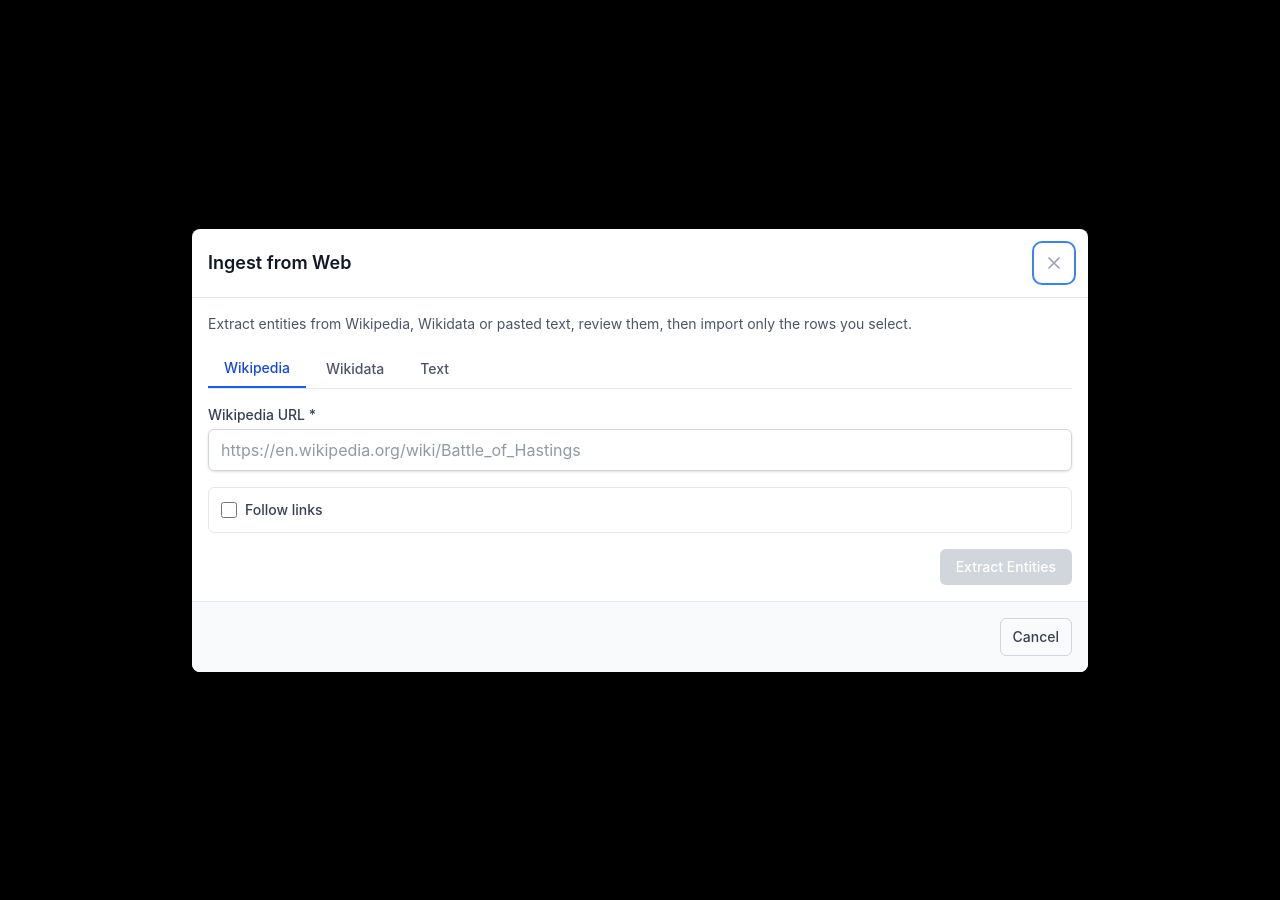
Test: IngestionWizard › review step has no axe violations
Click the tab "Text".
click(435, 368)  # box [404,350,465,388]
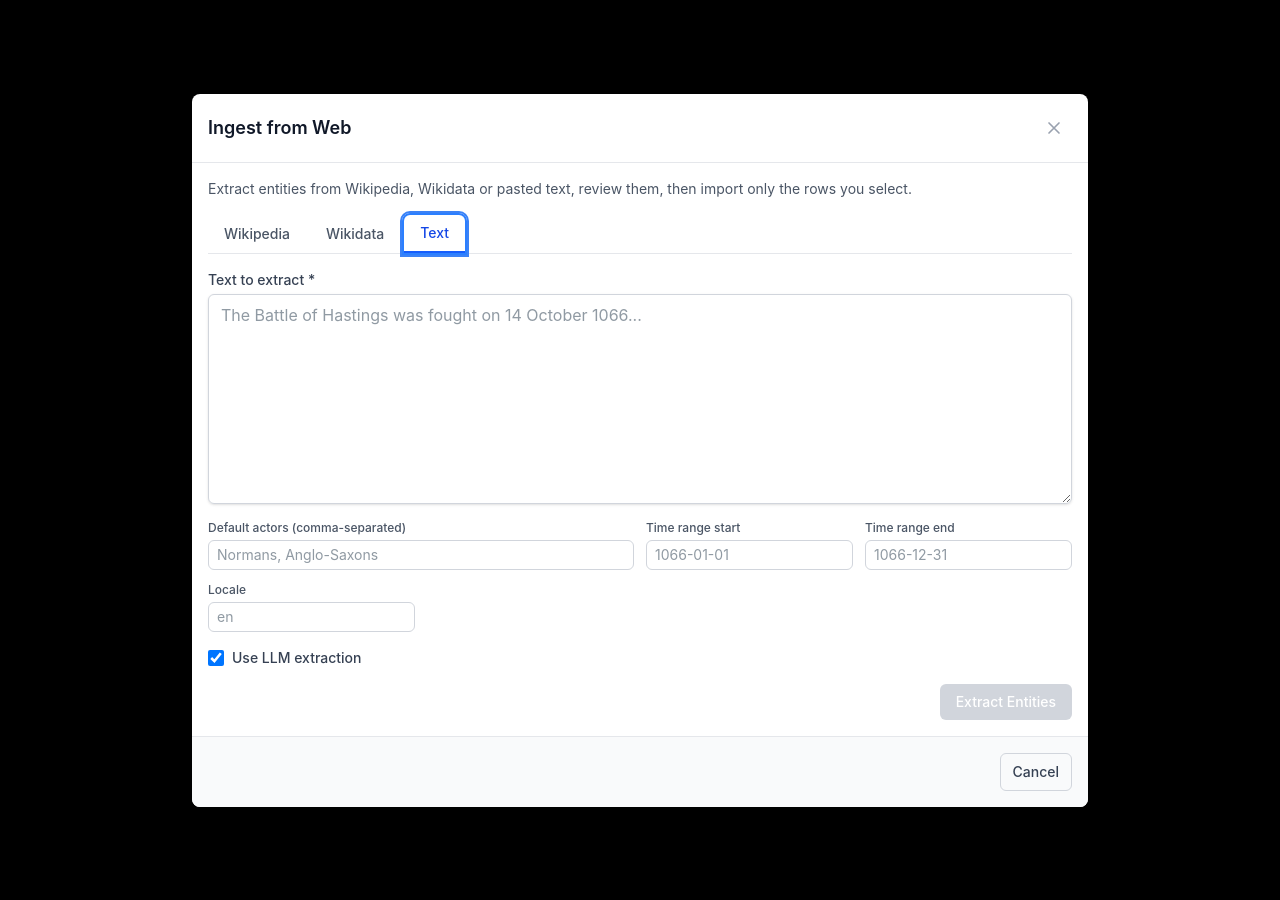
Type "The Battle of Hastings was fought in 1066." into the text box labelled "Text to extract *".
click(640, 398); type("The Battle of Hastings was fought in 1066.")  # box [208,294,1072,504]
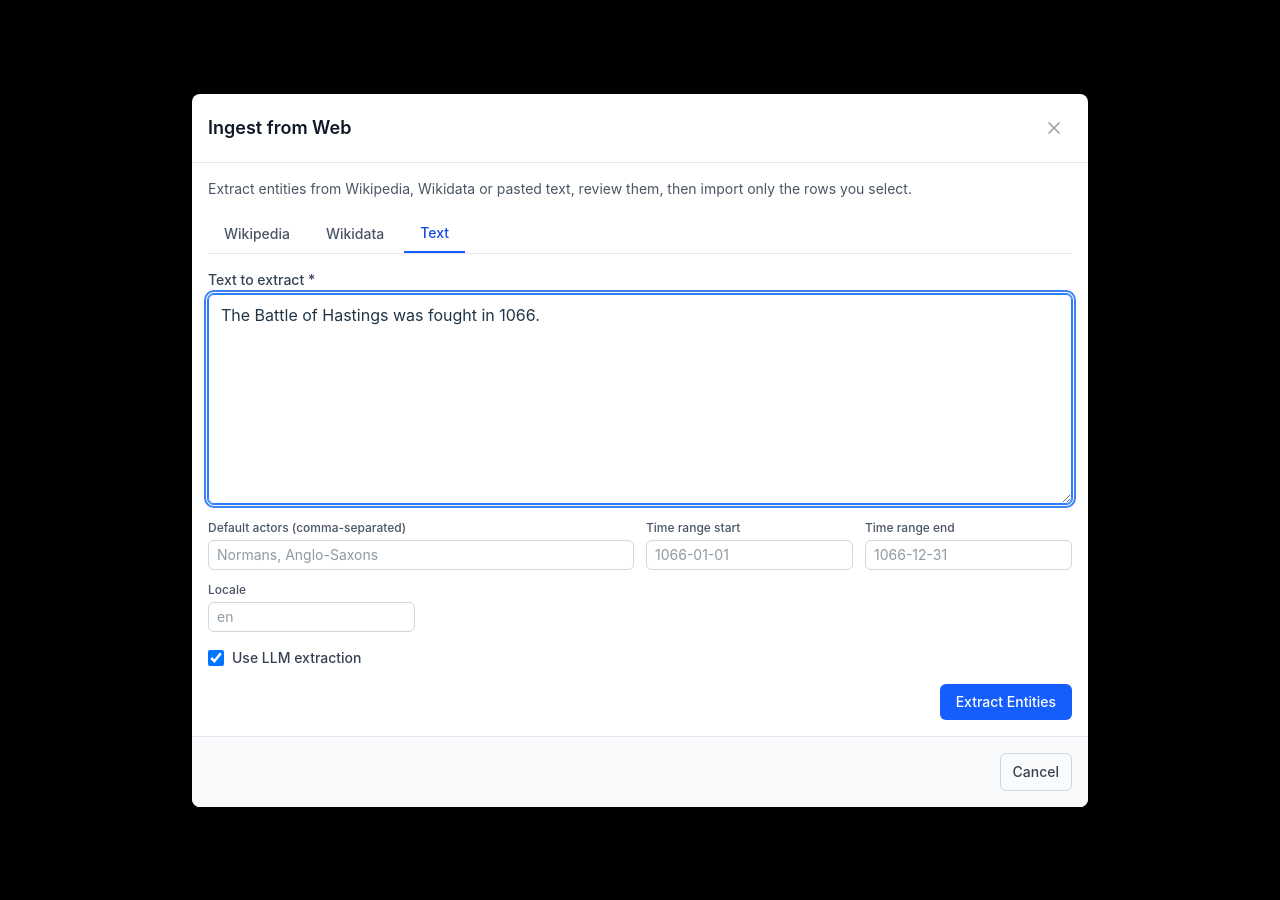
Click the button "Extract Entities".
click(1006, 702)  # box [940,684,1072,720]
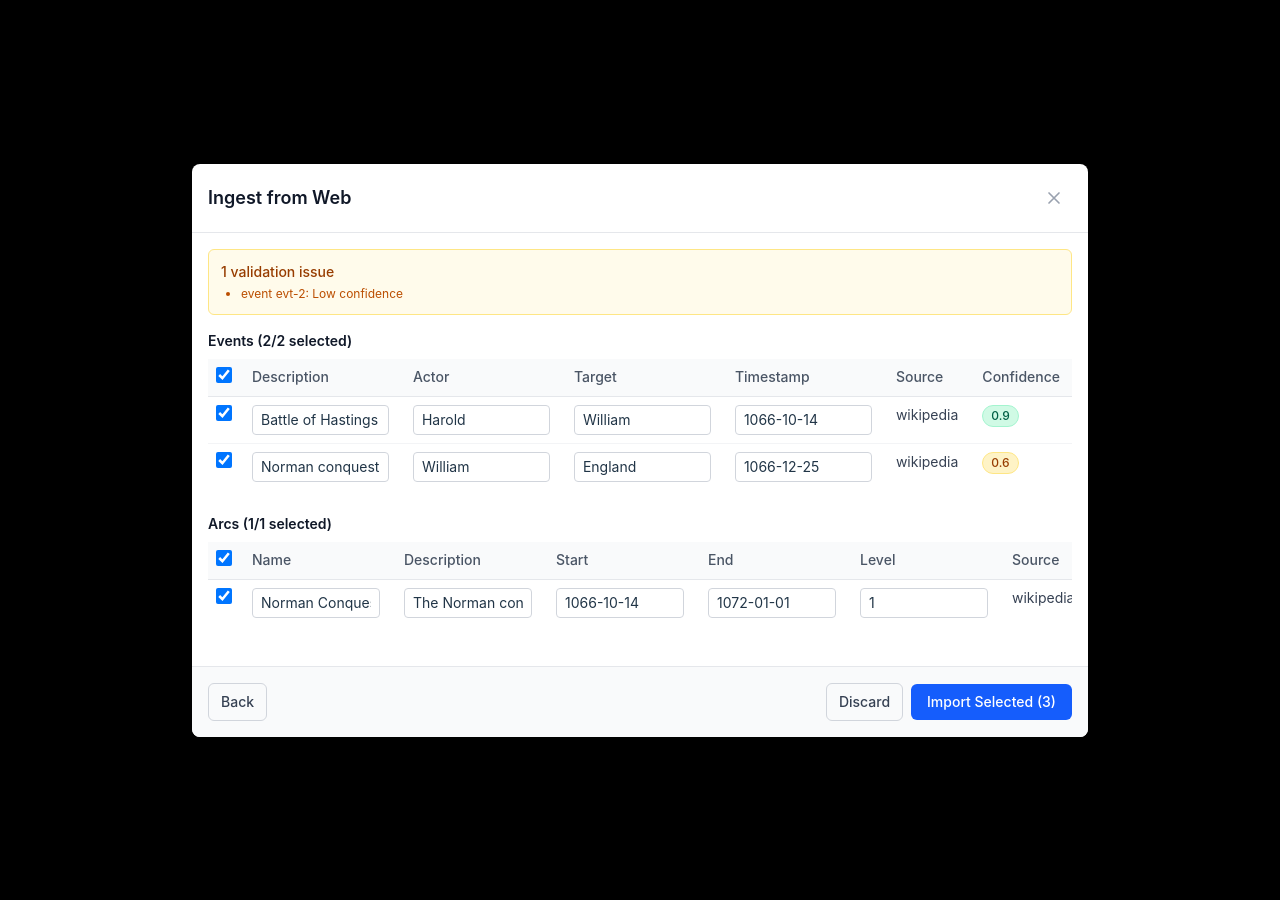
expect the checkbox named "Select event evt-1" is shown: met, box [216,404,232,420]
